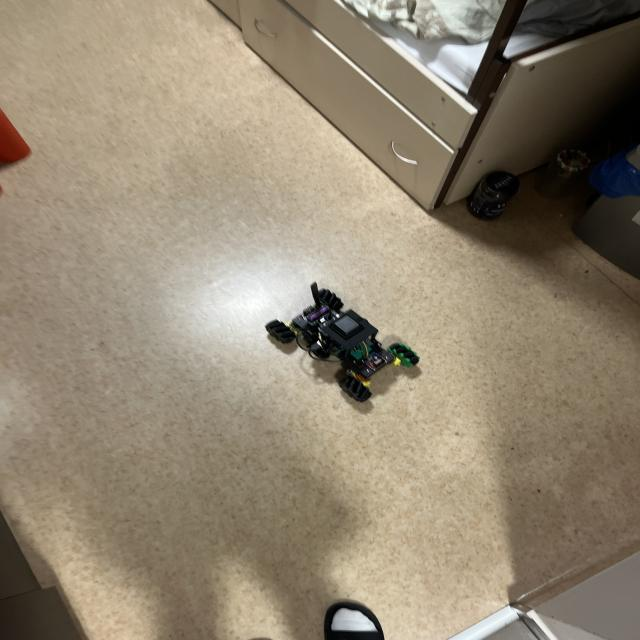robot: (266, 283, 419, 402)
